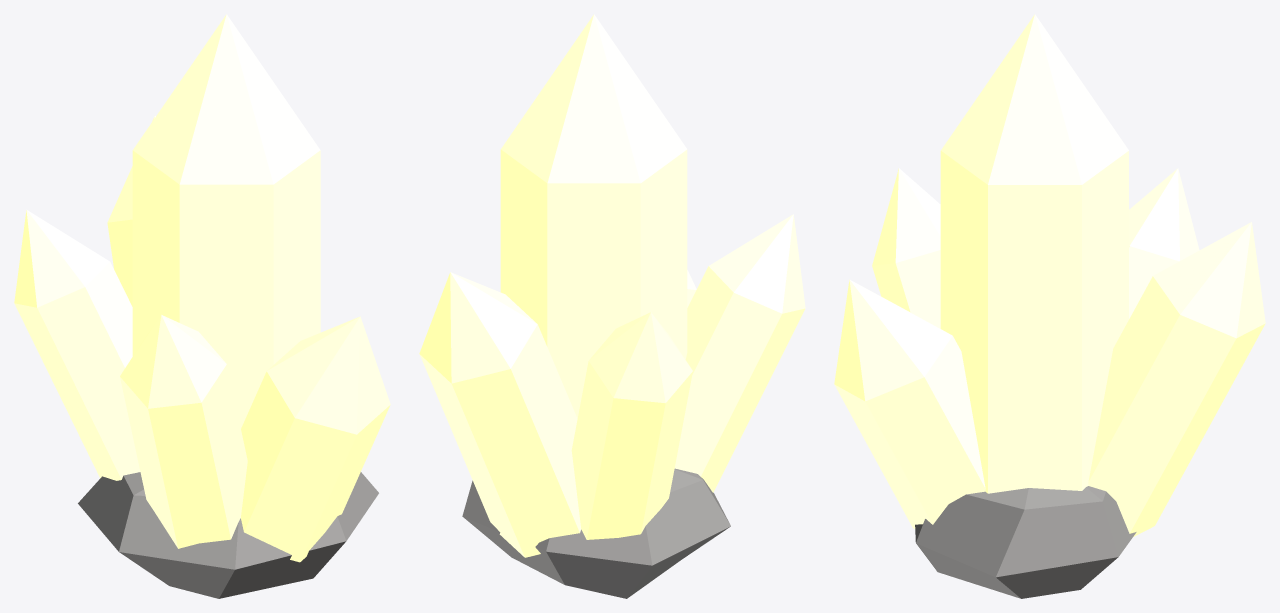
Rendered from arena_gem_gold.glb.
The picture shows the model from 3 angles, left to right: view 1: azimuth 30°, elevation 25°; view 2: azimuth 150°, elevation 25°; view 3: azimuth 270°, elevation 25°; orthographic projection.
Parts seen in each view (by area): view 1: arena_gem_gold; view 2: arena_gem_gold; view 3: arena_gem_gold.
Part boxes in pixels (x1,y1,x2,y2): arena_gem_gold: [14, 14, 390, 598]; arena_gem_gold: [419, 14, 805, 598]; arena_gem_gold: [834, 14, 1265, 598].
Size of the model in its own units: 1.11 by 2.12 by 1.47.
